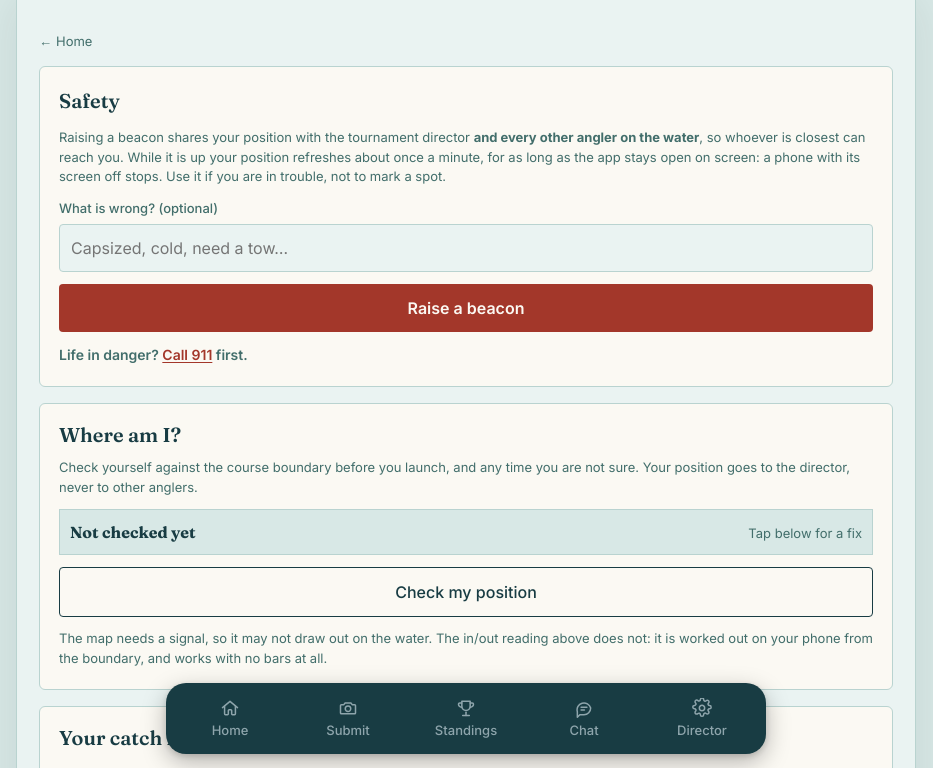
Scenario: raising a beacon › sends nothing without a fix, and says why
Click the button "Raise a beacon".
click(466, 308)  # box [59, 284, 873, 332]
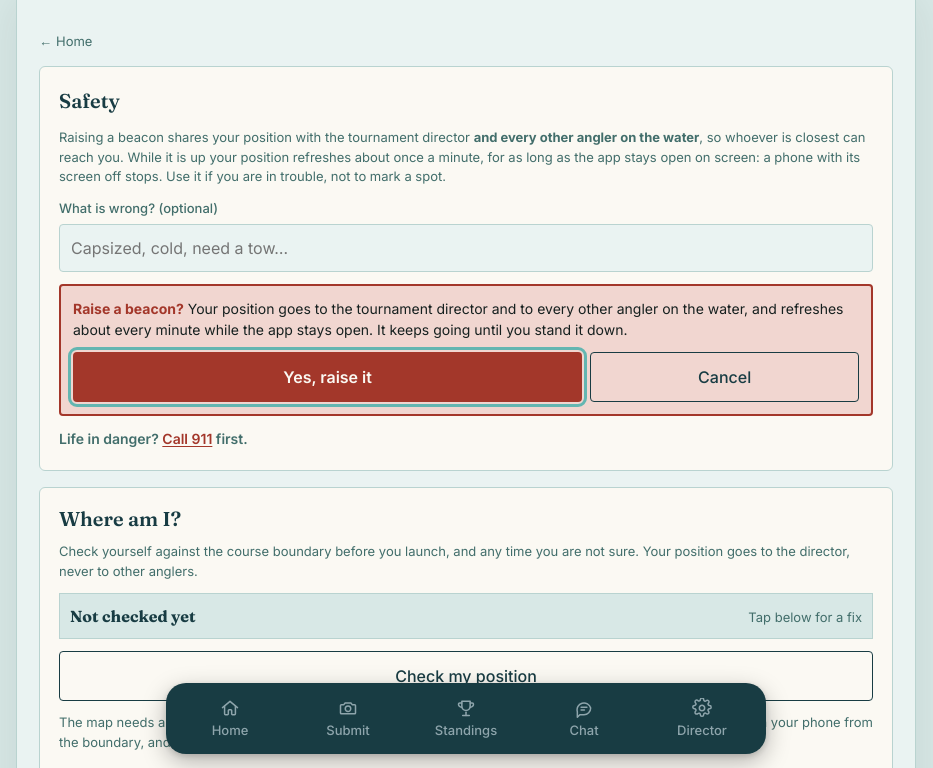
Click the button "Yes, raise it".
click(328, 377)  # box [73, 352, 582, 402]
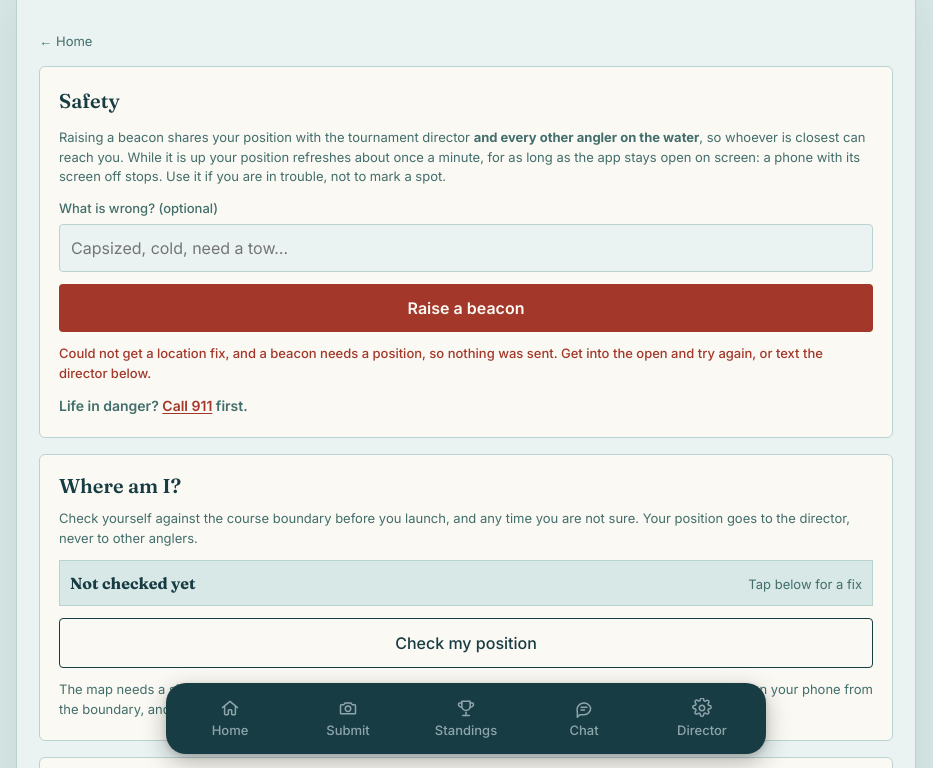
Expected: the message shows "a beacon needs a position", [59, 345, 823, 380]
